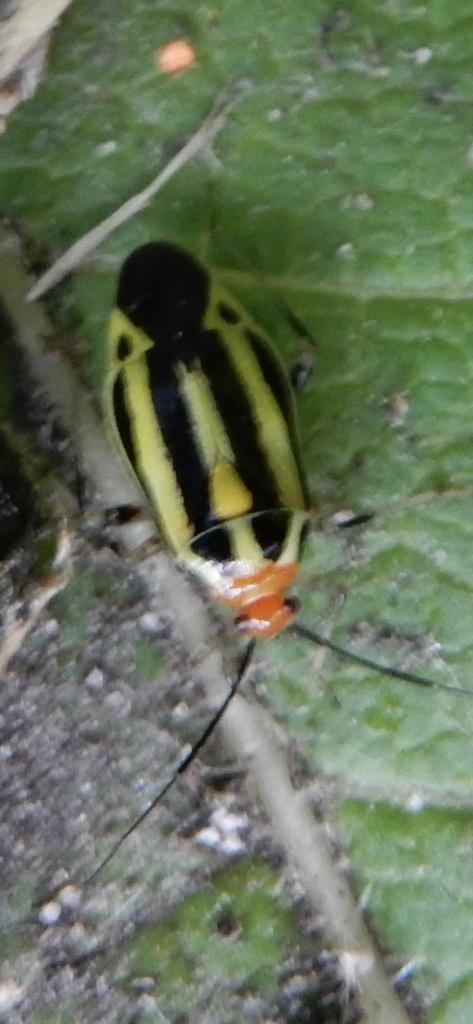plant_bugs: (0, 187, 473, 933)
